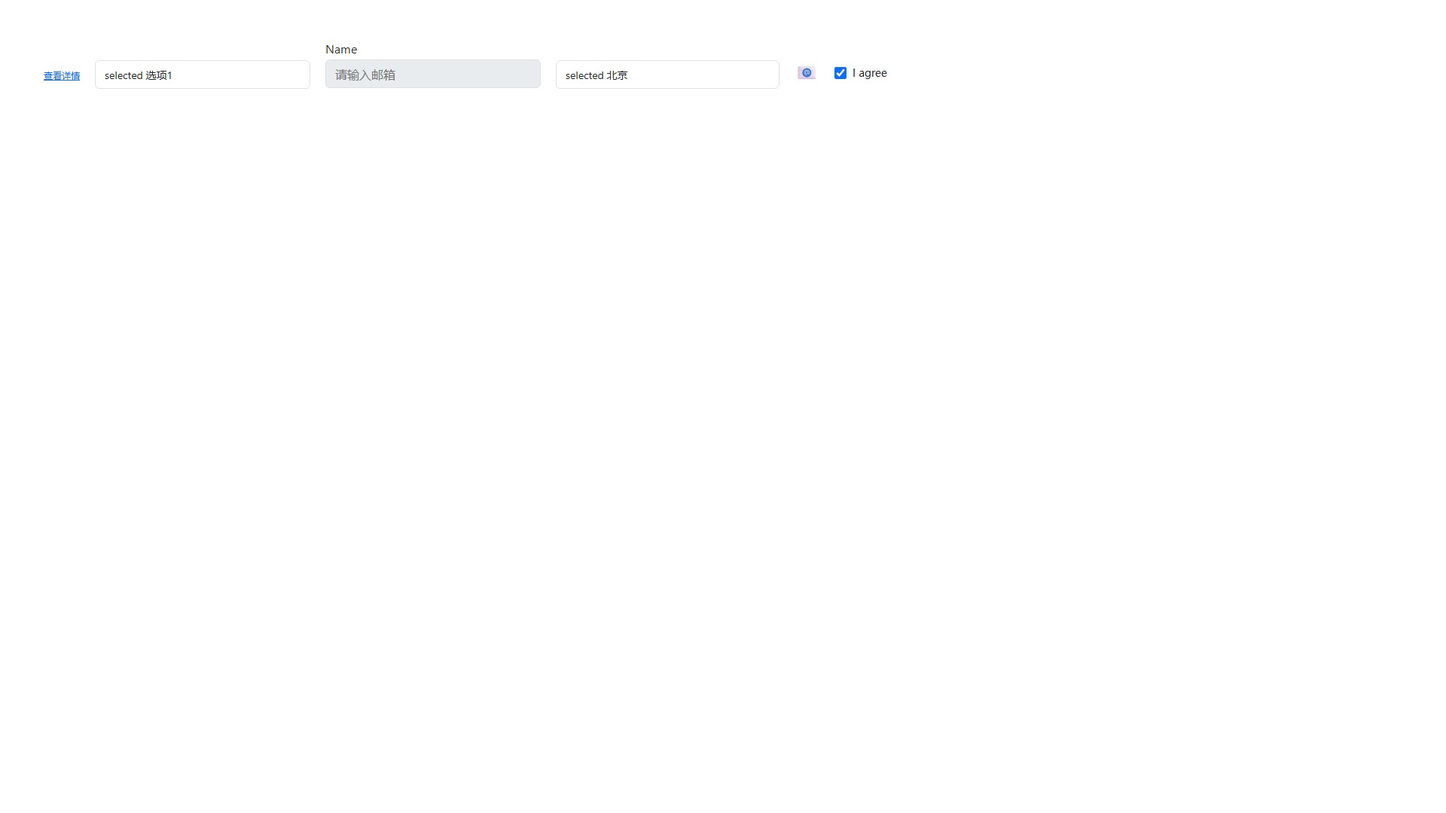checkbox: (834, 67, 846, 79)
icon: (853, 65, 887, 80), (795, 62, 819, 80)
input: (325, 59, 541, 88)
link: (44, 69, 80, 81)
radio: (834, 65, 887, 80)
select: (556, 60, 779, 89), (95, 60, 310, 89)
